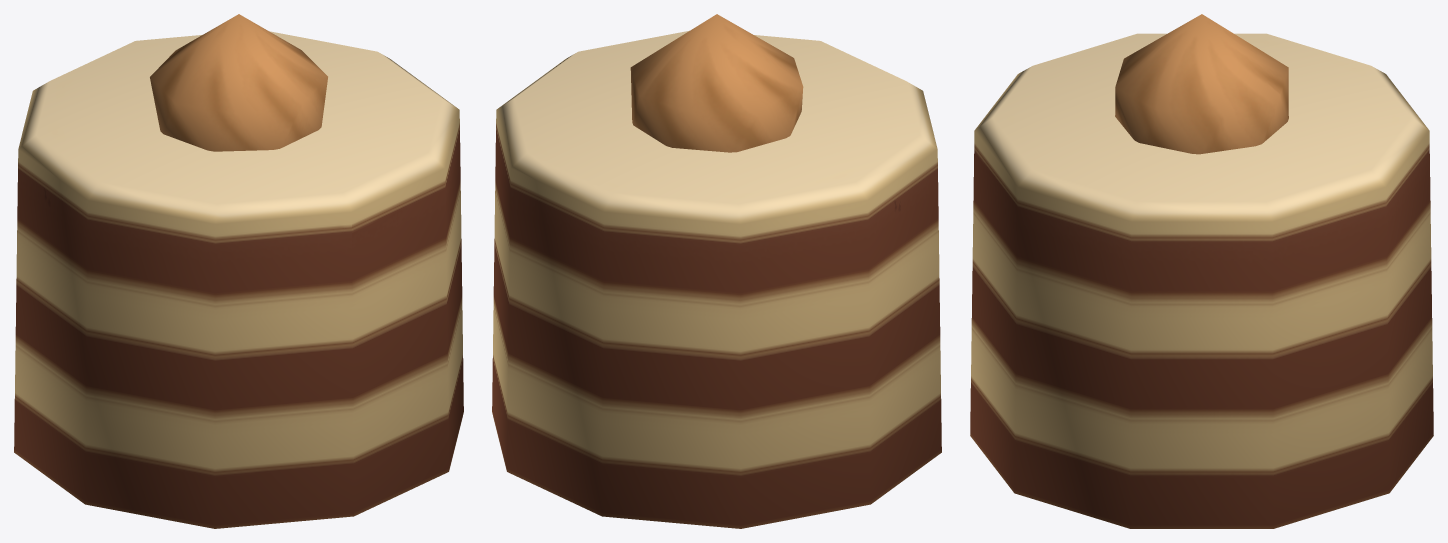
The model's file is StripeCake_Small.fbx.
The picture shows the model from 3 angles, left to right: view 1: azimuth 30°, elevation 25°; view 2: azimuth 150°, elevation 25°; view 3: azimuth 270°, elevation 25°; orthographic projection.
Parts seen in each view (by area): view 1: StripeCake_Small; view 2: StripeCake_Small; view 3: StripeCake_Small.
Part boxes in pixels (<box>): StripeCake_Small: <box>14,14,463,528</box>; StripeCake_Small: <box>492,14,941,528</box>; StripeCake_Small: <box>970,14,1433,528</box>.
Size of the model in its own units: 36.87 by 38.95 by 38.77.
